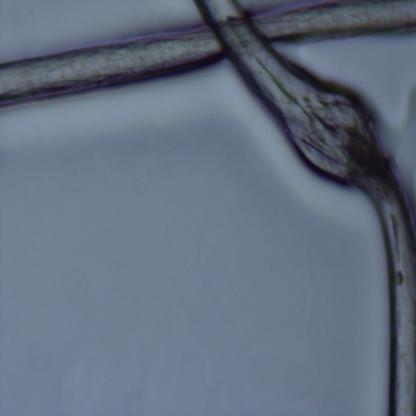Microfibre: (195, 0, 416, 414), (0, 0, 416, 106)
